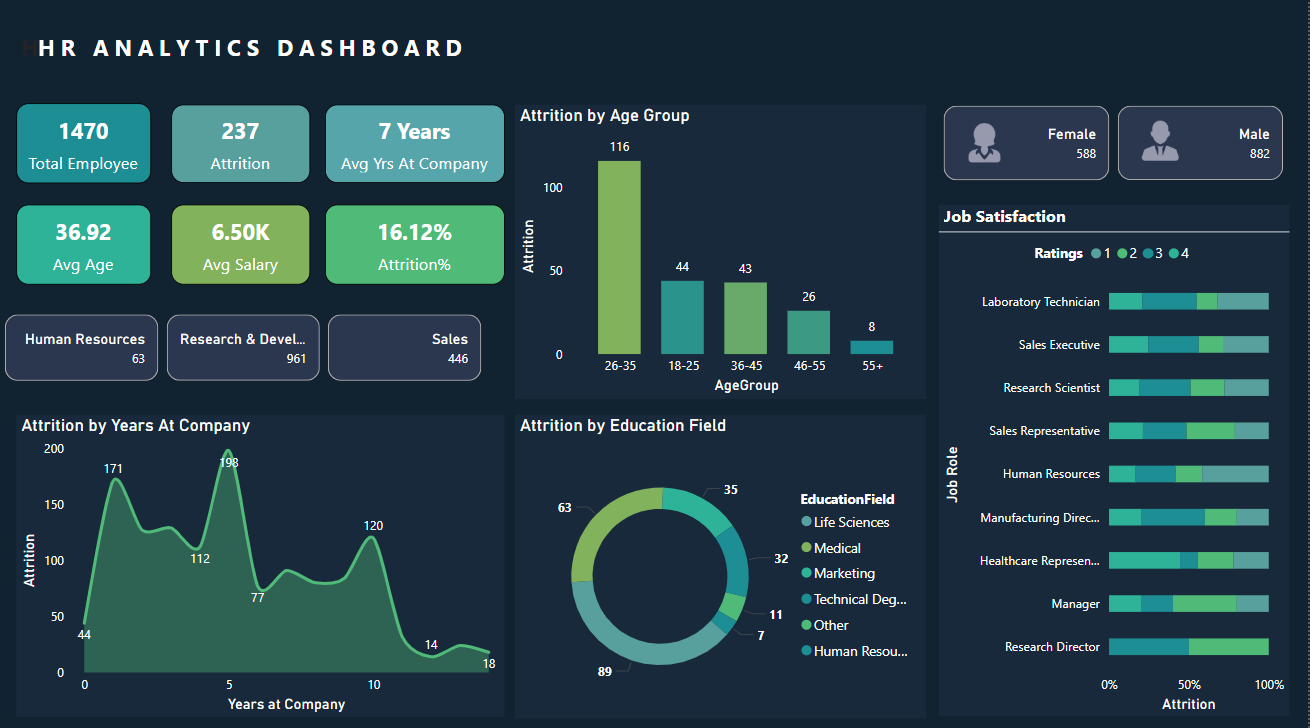

Layout of this report page (visuals, bound fields, positions):
{"tool":"powerbi","page":{"name":"HR Analytics ","canvas":[1280,720],"ordinal":0},"visuals":[{"type":"image","box":[1108.8,116.6,52.1,49.4],"z":0},{"type":"image","box":[937.2,118,53.5,48],"z":1000},{"type":"card","fields":{"Values":["HR_Analytics.Employee_Attrition"]},"box":[167.4,105.7,135.8,76.8],"z":2000},{"type":"card","fields":{"Values":["HR_Analytics.Employee_Count"]},"box":[16.5,104.3,131.7,78.2],"z":3000},{"type":"card","fields":{"Values":["HR_Analytics.Years_With_Text"]},"box":[318.4,105.7,175.6,76.8],"z":4000},{"type":"card","fields":{"Values":["HR_Analytics.Attrition%"]},"box":[318.4,203.1,175.6,78.2],"z":5000},{"type":"card","fields":{"Values":["HR_Analytics.Avg_Salary"]},"box":[167.4,203.1,135.8,78.2],"z":6000},{"type":"card","fields":{"Values":["HR_Analytics.Avg_Age"]},"box":[16.5,203.1,131.7,78.2],"z":7000},{"type":"areaChart","title":"Attrition by Years At Company","fields":{"Y":["CountNonNull(HR_Analytics.Attrition)"],"Category":["HR_Analytics.YearsAtCompany"]},"box":[16.5,408.9,477.5,296.4],"z":8000},{"type":"donutChart","title":"Attrition by Education Field","fields":{"Y":["HR_Analytics.Employee_Attrition"],"Category":["HR_Analytics.EducationField"]},"box":[503.6,408.9,402.1,297.8],"z":9000},{"type":"columnChart","title":"Attrition by Age Group","fields":{"Category":["HR_Analytics.AgeGroup"],"Y":["HR_Analytics.Employee_Attrition"]},"box":[503.6,105.7,402.1,288.2],"z":10000},{"type":"hundredPercentStackedBarChart","title":"Job Satisfaction","fields":{"Y":["HR_Analytics.Employee_Attrition"],"Series":["HR_Analytics.JobSatisfaction"],"Category":["HR_Analytics.JobRole"]},"box":[918,203.1,343.1,500.9],"z":11000},{"type":"advancedSlicerVisual","fields":{"Values":["HR_Analytics.Gender"]},"box":[918,101.5,343.1,83.7],"z":12000},{"type":"advancedSlicerVisual","fields":{"Values":["HR_Analytics.Department"]},"box":[0,306,476.2,75.5],"z":13000},{"type":"textbox","title":"           HR ANALYTICS DASHBOARD","box":[16.5,28.8,477.5,46.7],"z":14000}]}

Visuals, with their boxes in screenshot pixels (x1, y1, x2, y2), scaled from the page's 1280x720 canvas onto the 1310x728 screenshot:
image: [1135, 118, 1188, 168]
image: [959, 119, 1014, 168]
card - HR_Analytics.Employee_Attrition: [171, 107, 310, 185]
card - HR_Analytics.Employee_Count: [17, 105, 152, 185]
card - HR_Analytics.Years_With_Text: [326, 107, 506, 185]
card - HR_Analytics.Attrition%: [326, 205, 506, 284]
card - HR_Analytics.Avg_Salary: [171, 205, 310, 284]
card - HR_Analytics.Avg_Age: [17, 205, 152, 284]
"Attrition by Years At Company" areaChart: [17, 413, 506, 713]
"Attrition by Education Field" donutChart: [515, 413, 927, 715]
"Attrition by Age Group" columnChart: [515, 107, 927, 398]
"Job Satisfaction" hundredPercentStackedBarChart: [940, 205, 1291, 712]
advancedSlicerVisual - HR_Analytics.Gender: [940, 103, 1291, 187]
advancedSlicerVisual - HR_Analytics.Department: [0, 309, 487, 386]
"           HR ANALYTICS DASHBOARD" textbox: [17, 29, 506, 76]
